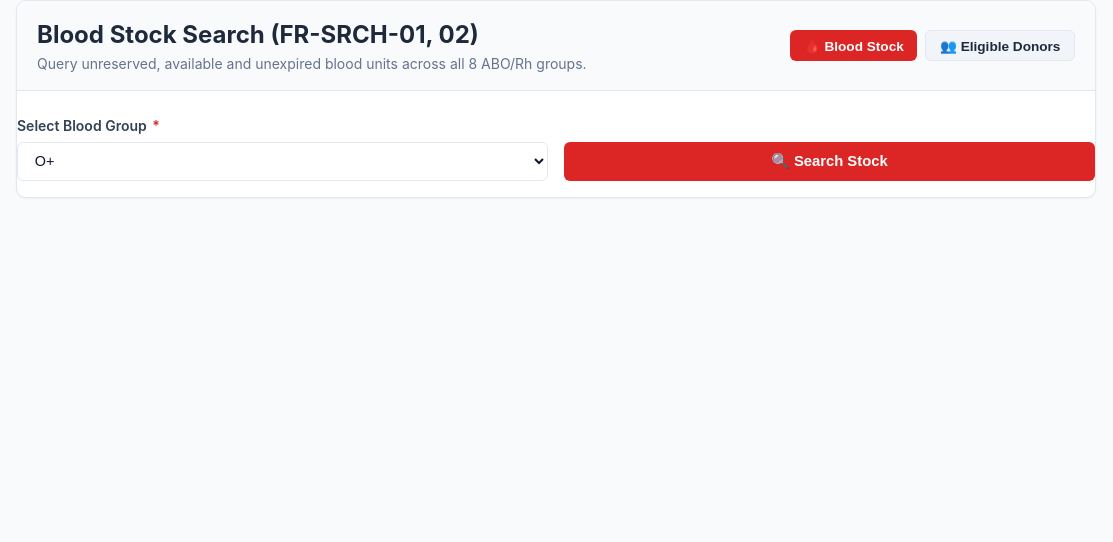
Test: Frontend SearchModule (FR-SRCH-01 to FR-SRCH-06, TC-09, TC-12, TC-26) › allows Staff to view unit IDs and expiry dates in stock search (FR-SRCH-02, TC-12)
Click the button "🔍 Search Stock". click: (830, 161)
box: [564,142,1095,181]
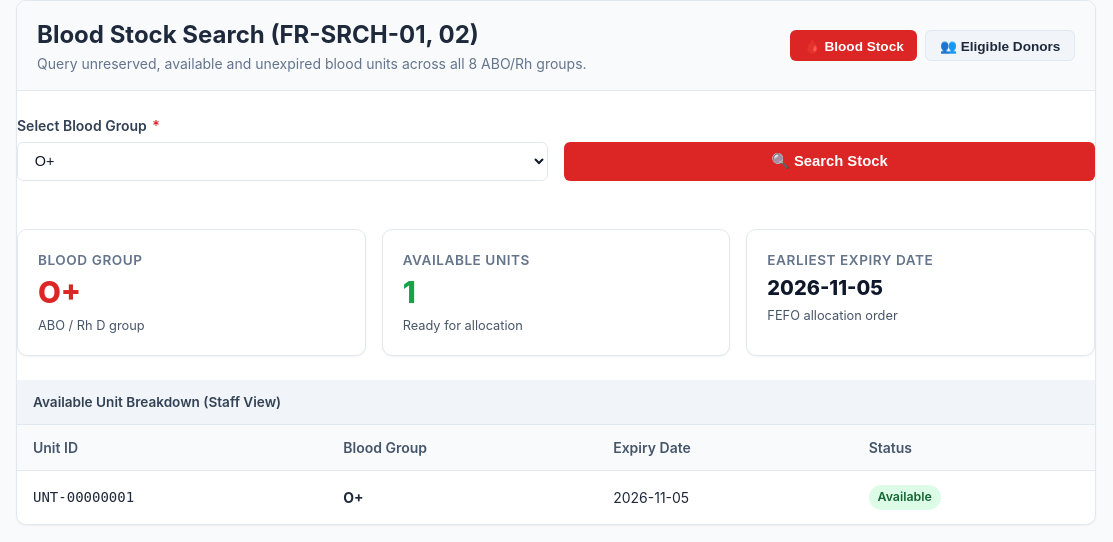
Expected: the text "UNT-00000001" is shown, [33,489,134,505]
Expected: the text "Available Unit Breakdown (Staff View)" is shown, [17,380,1095,425]
